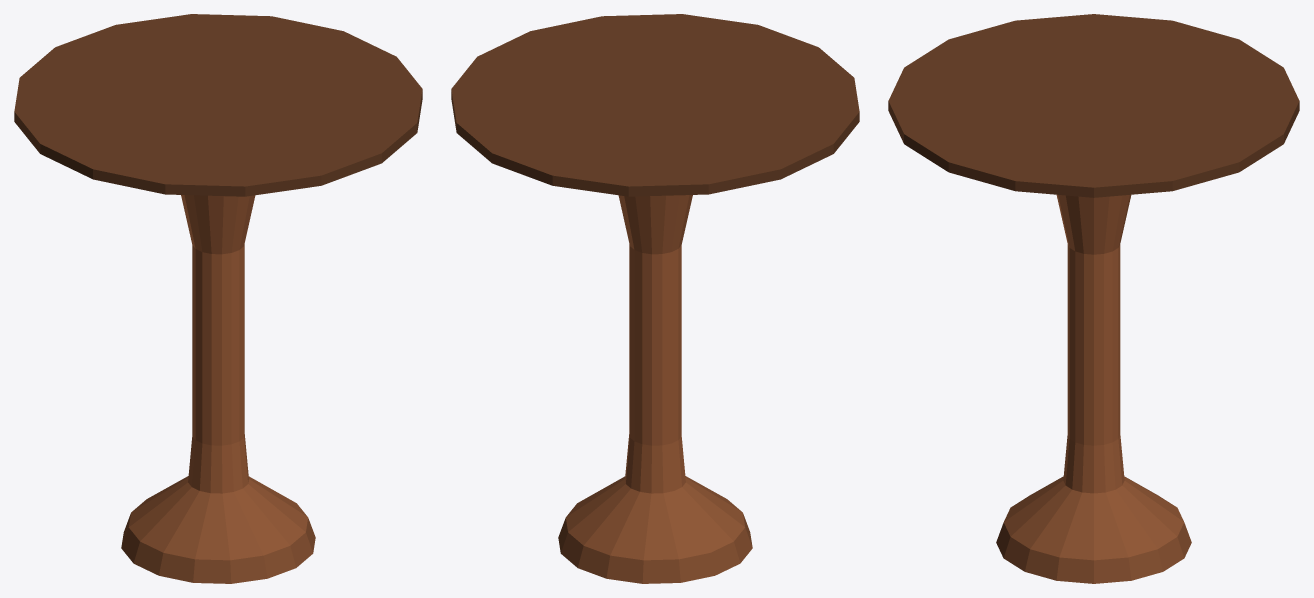
The model's file is tablecorner01.obj.
3 renders of one model, left to right at view 1: azimuth 30°, elevation 25°; view 2: azimuth 150°, elevation 25°; view 3: azimuth 270°, elevation 25°, orthographic.
Visible parts, largest first — view 1: Cylinder; view 2: Cylinder; view 3: Cylinder.
Boxes of the visible parts, left/top/right/bottom form: Cylinder: left=14, top=14, right=422, bottom=583; Cylinder: left=451, top=14, right=859, bottom=583; Cylinder: left=888, top=14, right=1299, bottom=583.
Size of the model in its own units: 0.4636 by 0.5498 by 0.4636.
